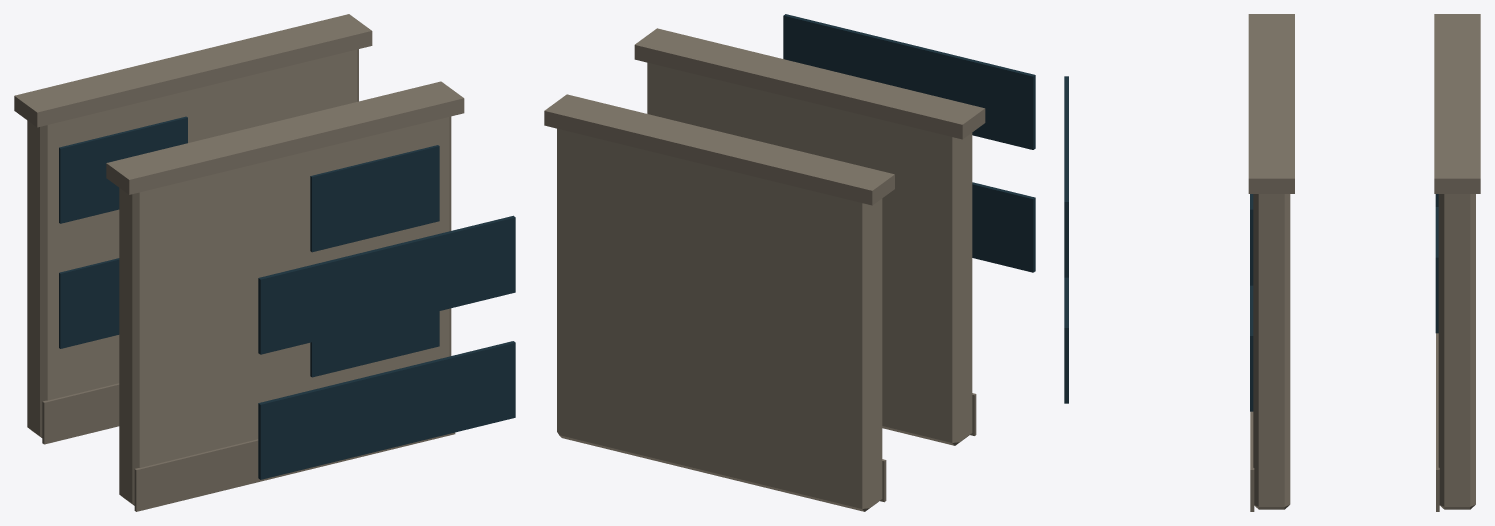
The model's file is bld_corner_a.glb.
3 renders of one model, left to right at view 1: azimuth 30°, elevation 25°; view 2: azimuth 150°, elevation 25°; view 3: azimuth 270°, elevation 25°, orthographic. The views are drawn at different scales.
Visible parts, largest first — view 1: bld; view 2: bld; view 3: bld.
Part boxes in pixels (x1=…): bld: x1=14, y1=14, x2=515, y2=511; bld: x1=544, y1=14, x2=1035, y2=511; bld: x1=1064, y1=14, x2=1480, y2=511.
Bounding box in the file's own units: 4.2 × 4.01 × 4.49.
